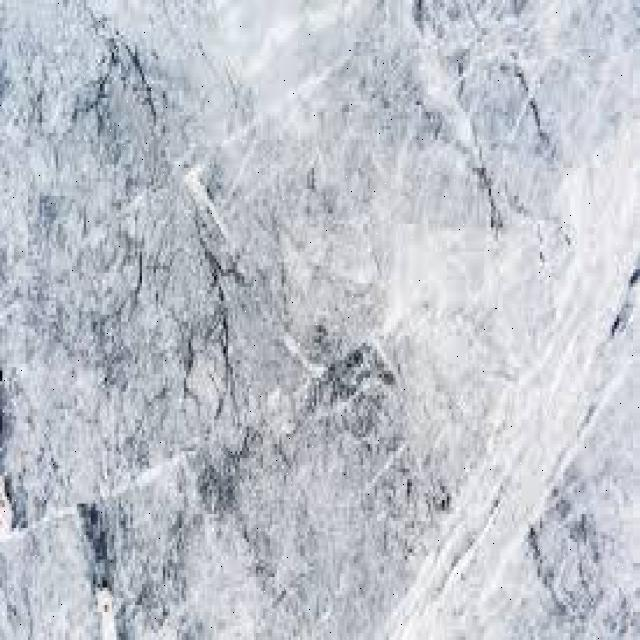Metamorphic: (5, 4, 638, 633)
